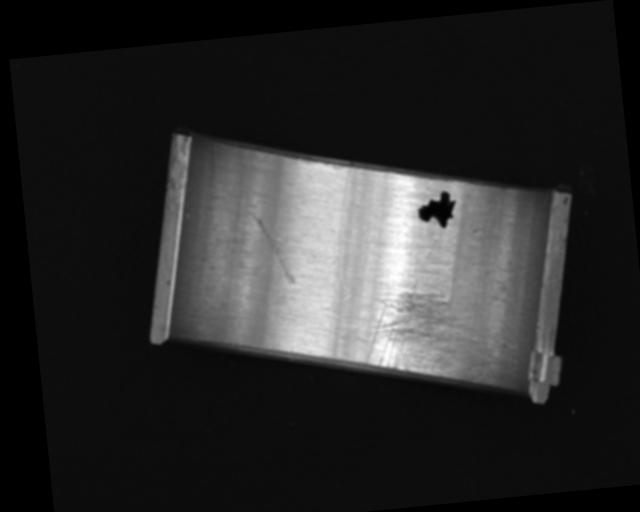blot: (415, 188, 459, 231)
nick: (325, 165, 364, 299), (251, 207, 296, 289)
scratch: (357, 272, 492, 396)
